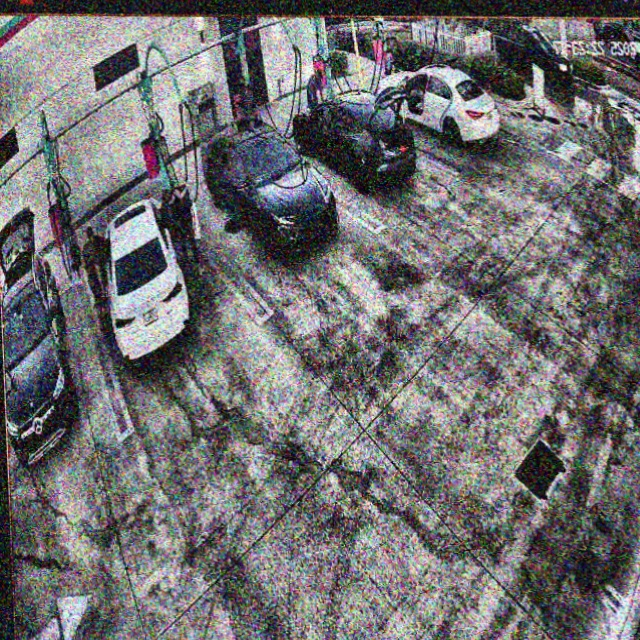Car: (85, 186, 204, 368), (201, 120, 341, 262), (291, 85, 420, 187), (376, 63, 500, 151)
